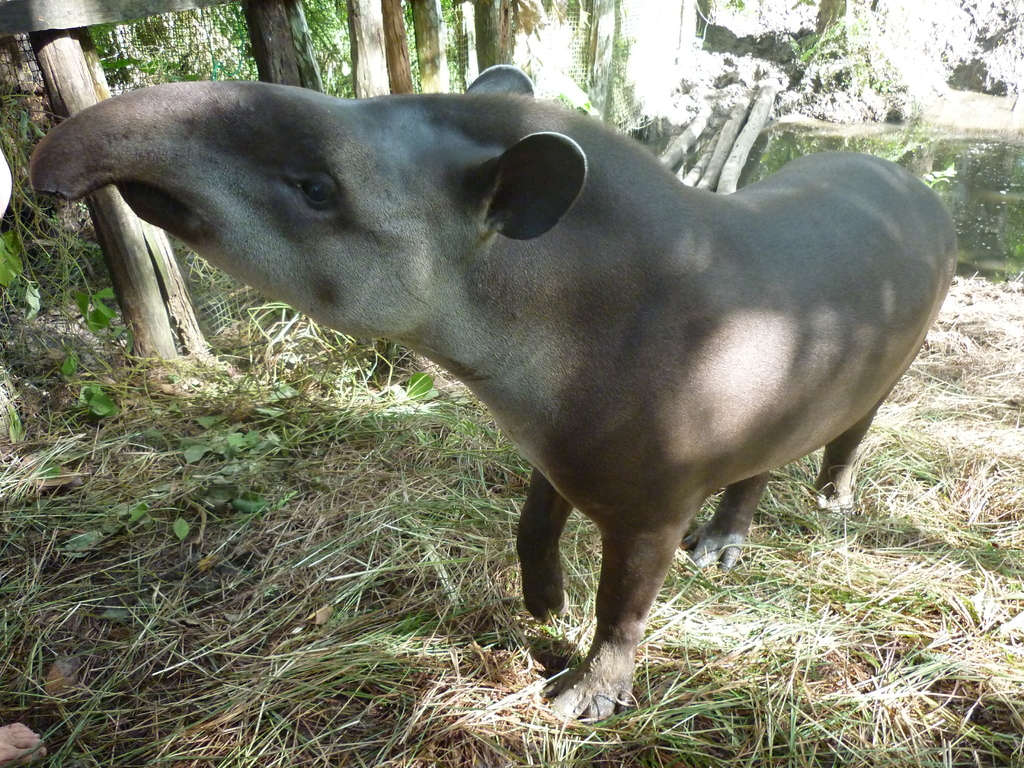Tree: (0, 0, 1023, 365)
